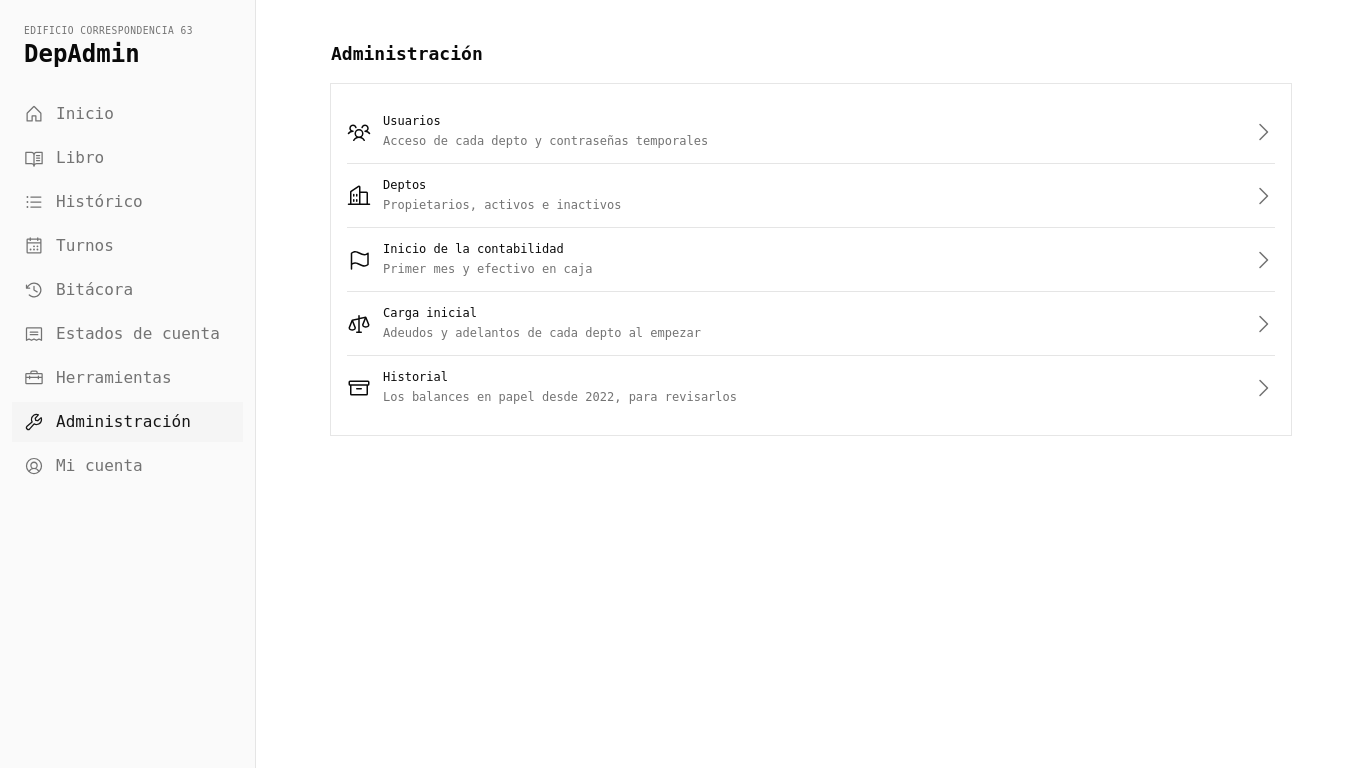
Test: UnitsPage › is reached from the admin page
Click the link "Deptos Propietarios, activos e inactivos": (405, 185) [347, 178, 1275, 212]
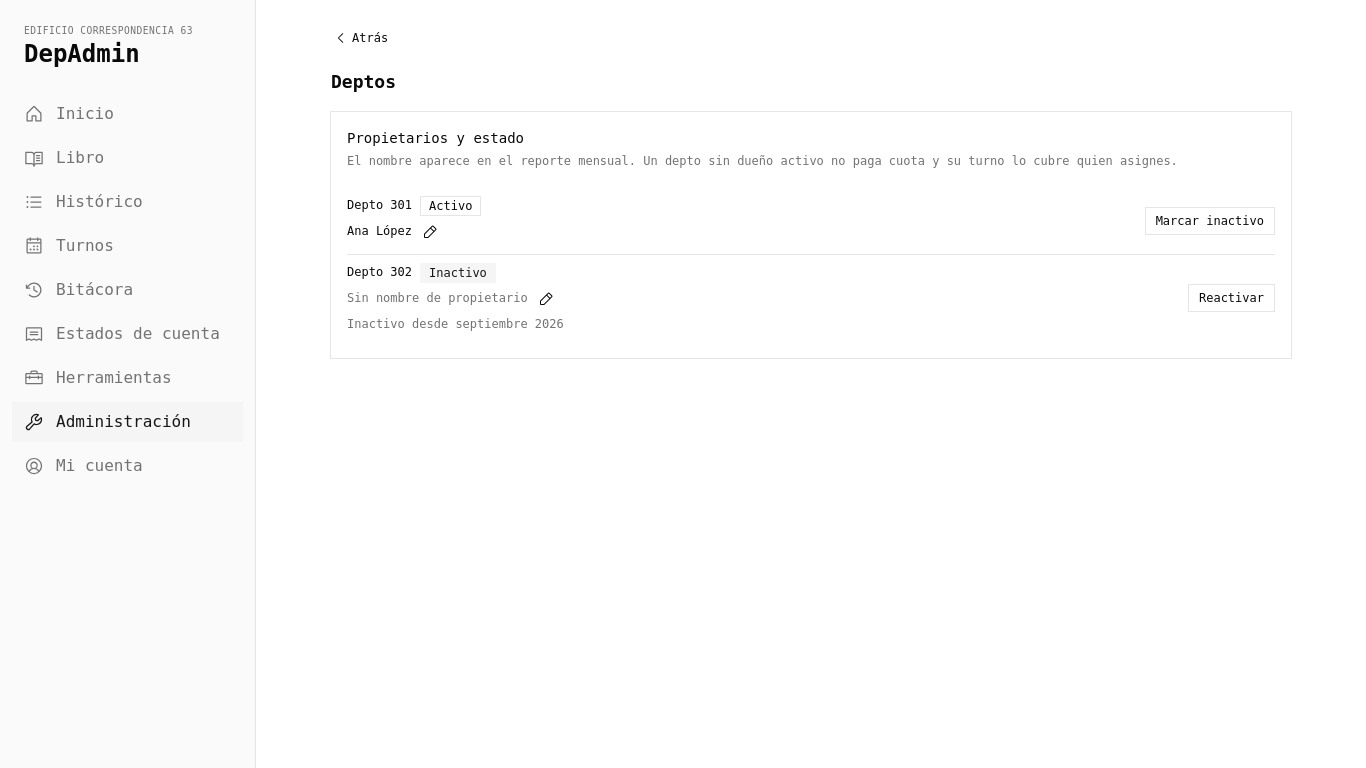
Expected: the heading "Deptos" is shown, [331, 71, 396, 92]
